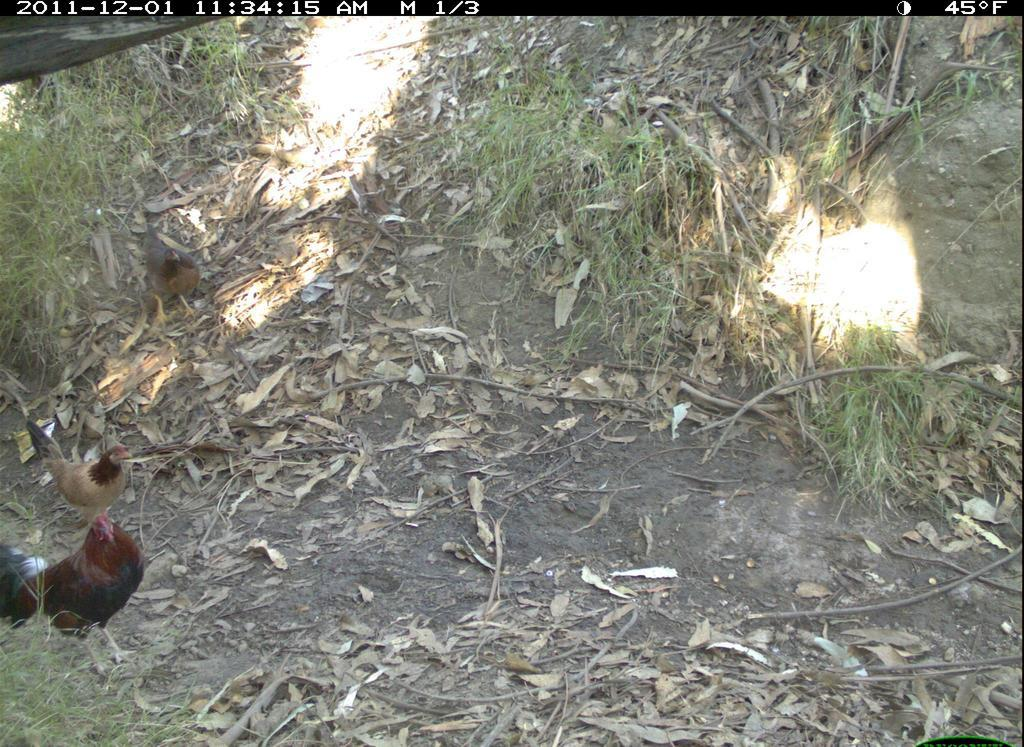bird: (2, 513, 153, 680), (24, 419, 139, 506), (131, 214, 203, 333)
